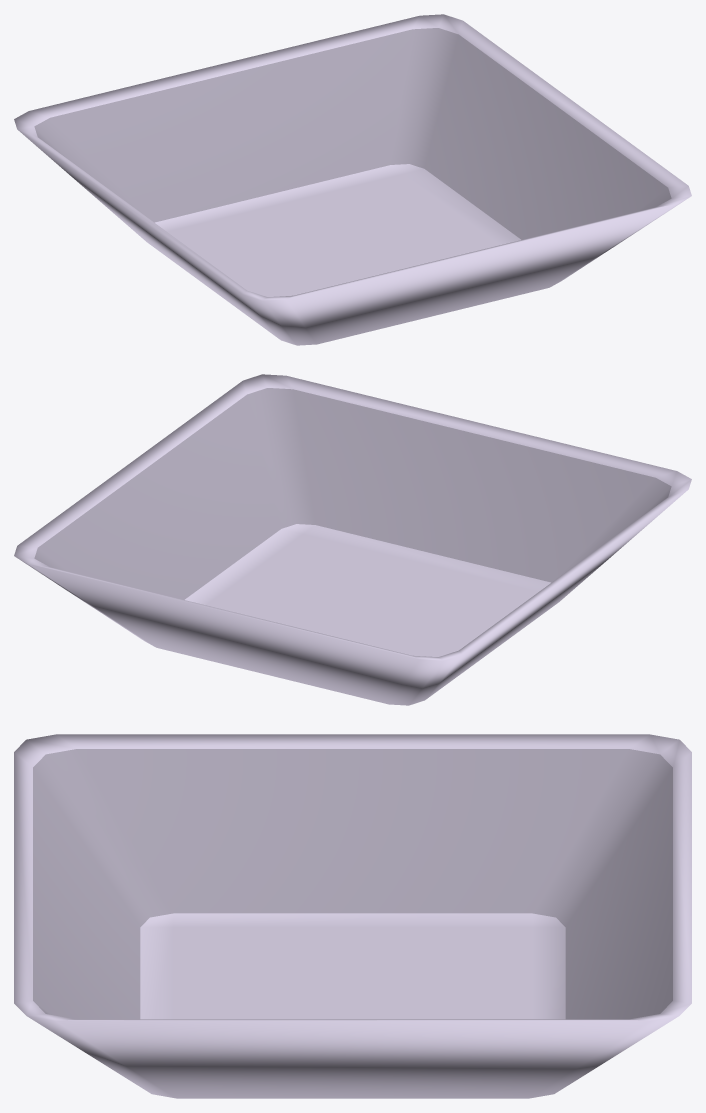
Rendered from bowl_square.fbx.
3 views of the same model, one above another, from view 1: azimuth 30°, elevation 25°; view 2: azimuth 150°, elevation 25°; view 3: azimuth 270°, elevation 25° (orthographic). The views are drawn at different scales.
Parts seen in each view (by area): view 1: bowlSquare; view 2: bowlSquare; view 3: bowlSquare.
Boxes of the visible parts, left/top/right/bottom form: bowlSquare: left=14, top=14, right=691, bottom=345; bowlSquare: left=14, top=374, right=691, bottom=705; bowlSquare: left=14, top=734, right=691, bottom=1098.
Bounding box in the file's own units: 54.49 × 11.65 × 54.49.
